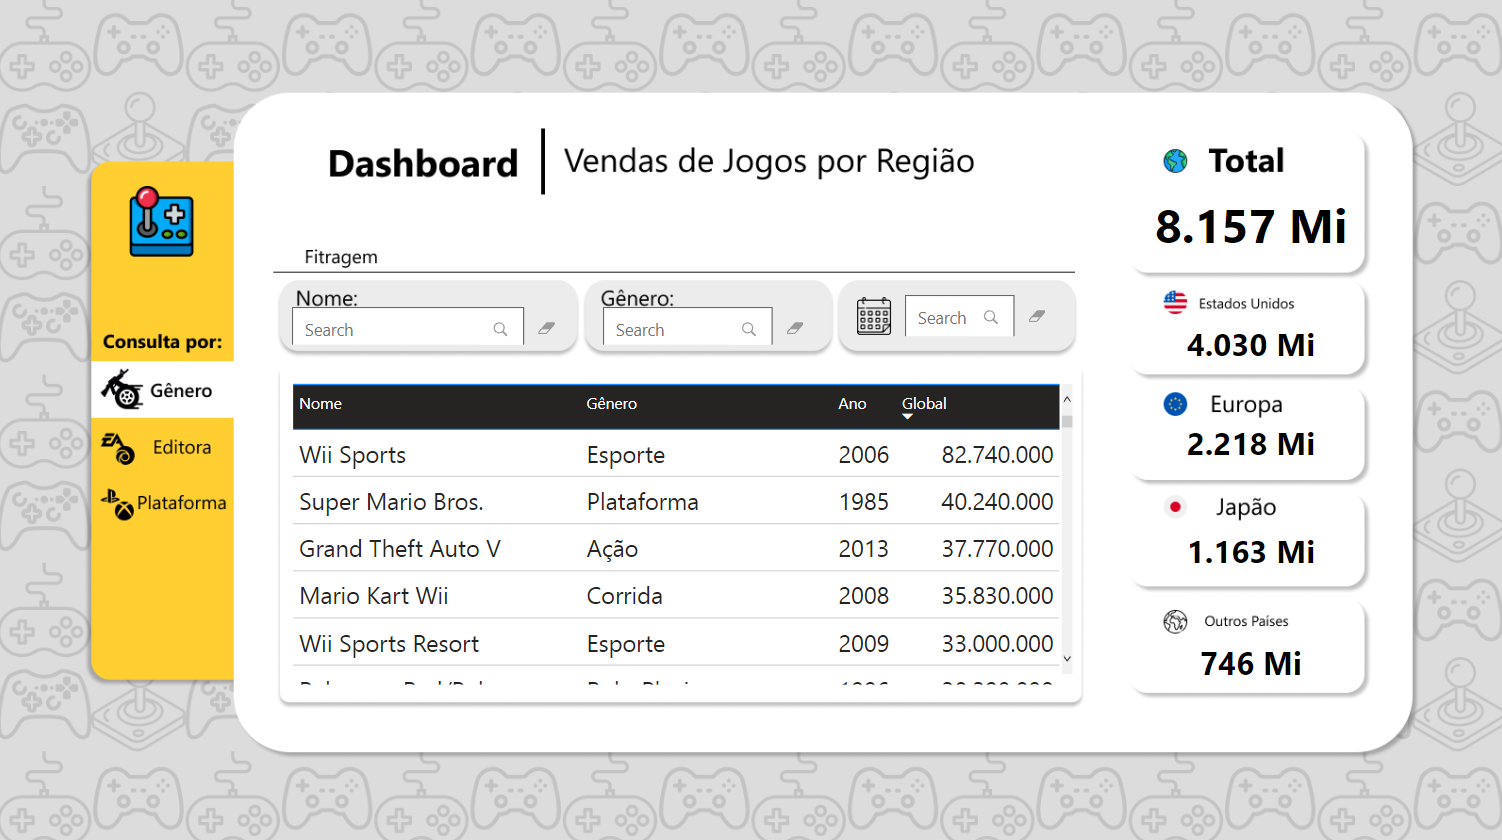

What the dashboard file says about the page in this screenshot:
{"tool":"powerbi","page":{"name":"Gênero","canvas":[1280,720],"ordinal":0},"visuals":[{"type":"card","fields":{"Values":["Sum(vgsales.Convert_TOTAL)"]},"box":[966.1,155.6,195.2,72.1],"z":0},{"type":"card","fields":{"Values":["Sum(vgsales.Convert_NA)"]},"box":[966.1,265.9,195.2,55.2],"z":1000},{"type":"card","fields":{"Values":["Sum(vgsales.Convert_EU)"]},"box":[966.1,360.7,195.2,35.4],"z":2000},{"type":"card","fields":{"Values":["Sum(vgsales.Convert_JP)"]},"box":[966.1,448.4,195.2,41],"z":3000},{"type":"card","fields":{"Values":["Sum(vgsales.Convert_Outros)"]},"box":[966.1,541.8,195.2,43.9],"z":4000},{"type":"tableEx","fields":{"Values":["vgsales.Nome","vgsales.Gênero","vgsales.Ano","Sum(vgsales.Convert_TOTAL)"]},"box":[244.7,321.1,671.9,264.5],"z":5000},{"type":"textFilter25A4896A83E0487089E2B90C9AE57C8A","fields":{"field":["vgsales.Nome"]},"box":[244.7,256,244.7,42.4],"z":6000},{"type":"textFilter25A4896A83E0487089E2B90C9AE57C8A","fields":{"field":["vgsales.Gênero"]},"box":[509.2,256,192.4,42.4],"z":7000},{"type":"textFilter25A4896A83E0487089E2B90C9AE57C8A","fields":{"field":["vgsales.Ano"]},"box":[765.3,246.1,141.4,45.3],"z":8000},{"type":"actionButton","box":[82,360.7,118.8,35.4],"z":9000},{"type":"actionButton","box":[82,406,118.8,42.4],"z":10000}]}

Visuals, with their boxes in screenshot pixels (x1, y1, x2, y2), scaled from the page's 1280x720 canvas onto the 1502x840 screenshot:
card - Sum(vgsales.Convert_TOTAL): select_region(1134, 182, 1363, 266)
card - Sum(vgsales.Convert_NA): select_region(1134, 310, 1363, 375)
card - Sum(vgsales.Convert_EU): select_region(1134, 421, 1363, 462)
card - Sum(vgsales.Convert_JP): select_region(1134, 523, 1363, 571)
card - Sum(vgsales.Convert_Outros): select_region(1134, 632, 1363, 683)
tableEx - vgsales.Nome x vgsales.Gênero: select_region(287, 375, 1076, 683)
textFilter25A4896A83E0487089E2B90C9AE57C8A - vgsales.Nome: select_region(287, 299, 574, 348)
textFilter25A4896A83E0487089E2B90C9AE57C8A - vgsales.Gênero: select_region(598, 299, 823, 348)
textFilter25A4896A83E0487089E2B90C9AE57C8A - vgsales.Ano: select_region(898, 287, 1064, 340)
actionButton: select_region(96, 421, 236, 462)
actionButton: select_region(96, 474, 236, 523)
